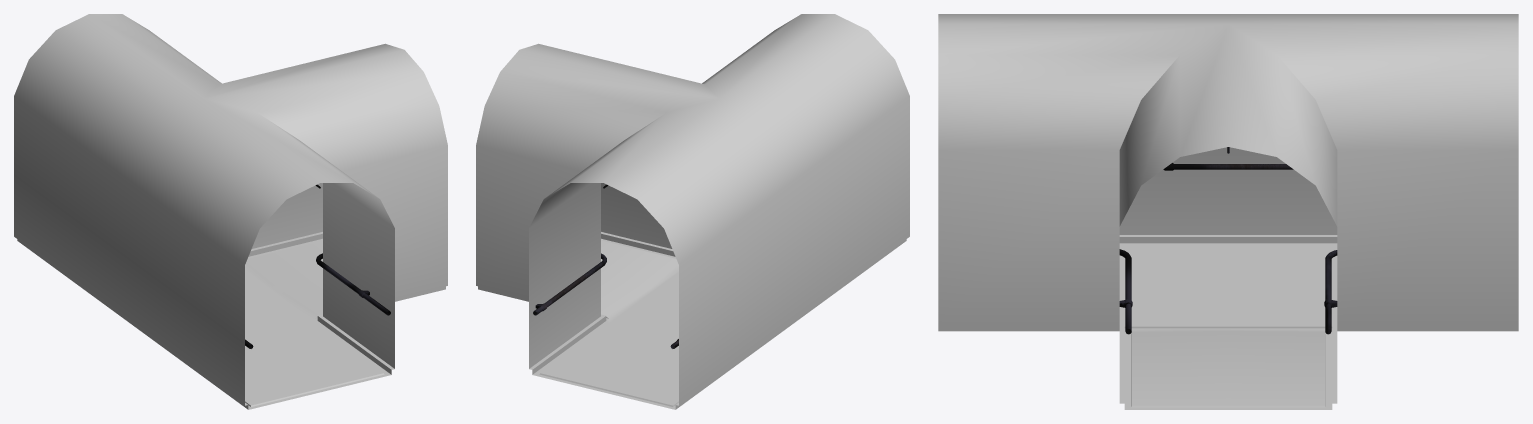
Rendered from section_T.fbx.
The picture shows the model from 3 angles, left to right: view 1: azimuth 30°, elevation 25°; view 2: azimuth 150°, elevation 25°; view 3: azimuth 270°, elevation 25°; orthographic projection. The views are drawn at different scales.
Parts seen in each view (by area): view 1: section_T; view 2: section_T; view 3: section_T.
Boxes of the visible parts, left/top/right/bottom form: section_T: left=14, top=14, right=447, bottom=409; section_T: left=476, top=14, right=909, bottom=409; section_T: left=938, top=14, right=1518, bottom=409.
Size of the model in its own units: 550 by 400 by 800.
